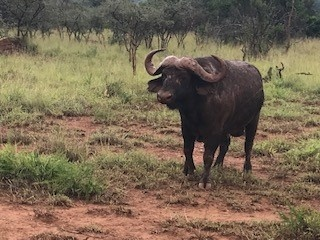buffalo: (139, 45, 268, 191)
